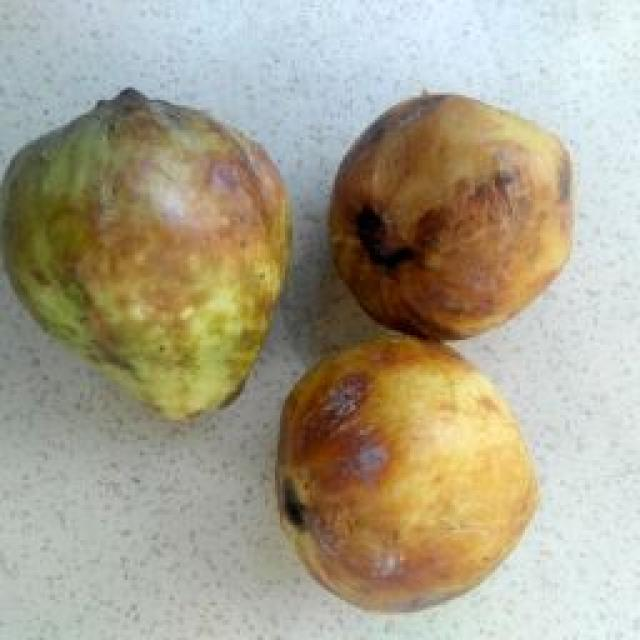Bad_Guava: (279, 338, 538, 609), (330, 94, 572, 339)
